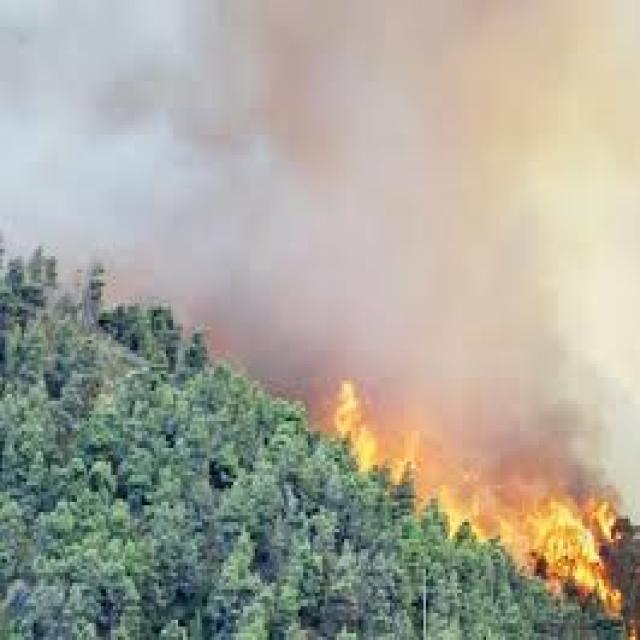Fire: (338, 391, 640, 614)
Smoke: (0, 0, 640, 523)
